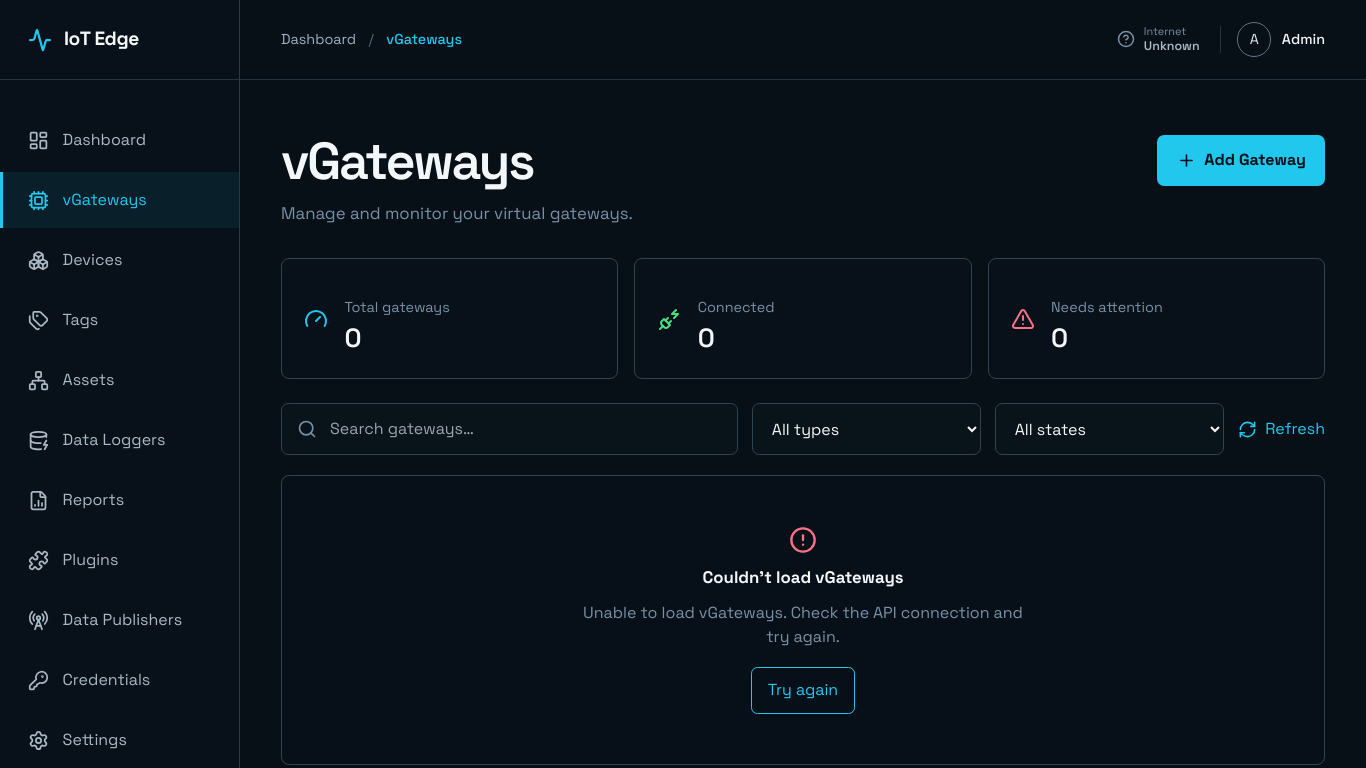
Test case: VGatewayListPage › shows the API error and retries the list request
This screenshot has width=1366, height=768.
Expected: the message that starts with "Couldn’t load vGateways" shows "Unable to load vGateways", [583, 602, 1023, 647]
Click the button "Try again" at [803, 690], box [751, 667, 855, 714]
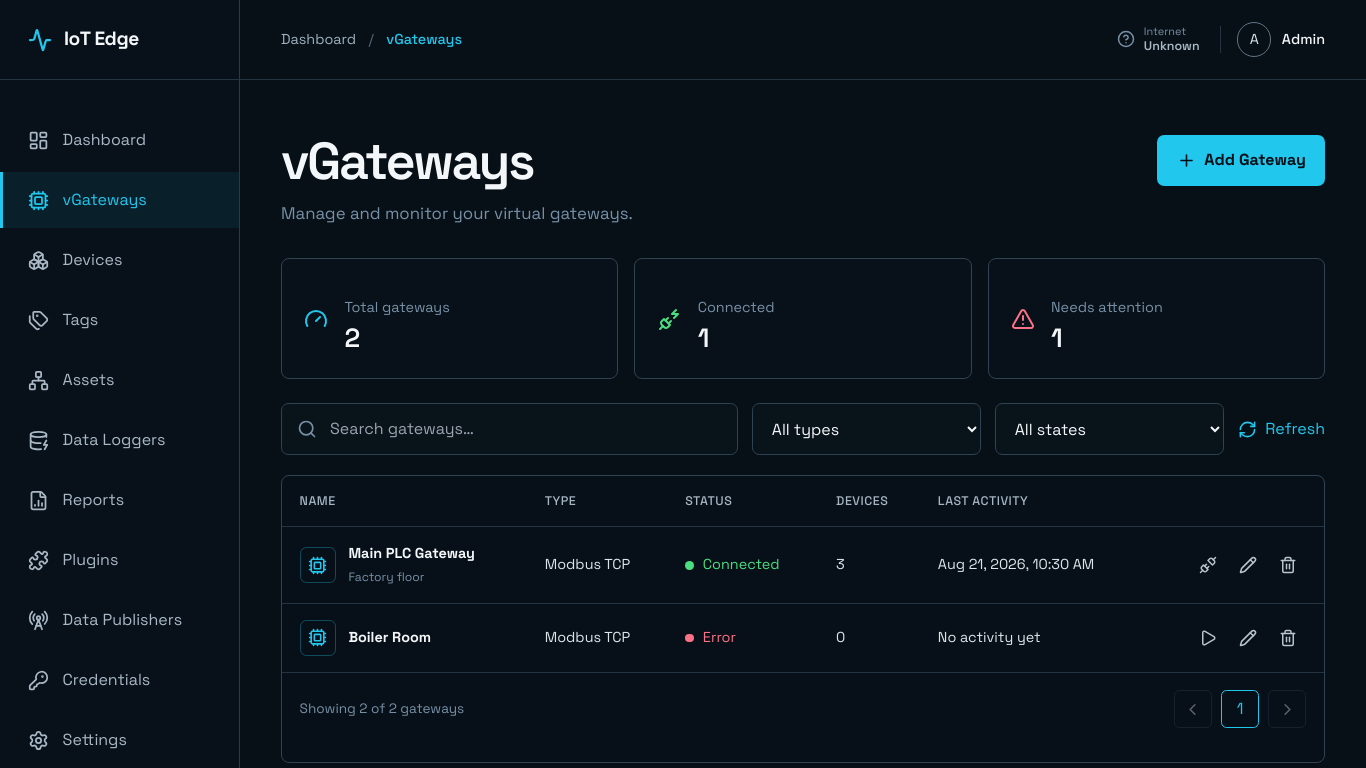
Expected: the link "Main PLC Gateway" is shown, [348, 544, 475, 562]
